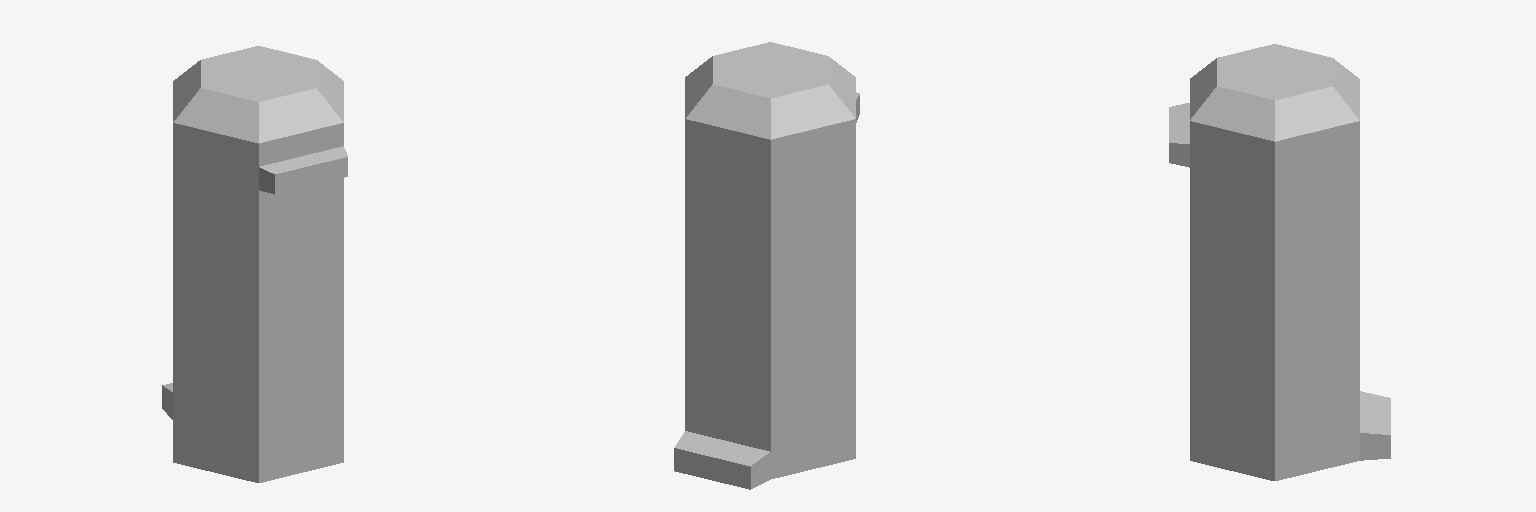
Rendered from trashbox.obj.
3 renders of one model, left to right at view 1: azimuth 30°, elevation 25°; view 2: azimuth 150°, elevation 25°; view 3: azimuth 270°, elevation 25°, orthographic.
Visible parts, largest first — view 1: trashcan; view 2: trashcan; view 3: trashcan.
Part boxes in pixels (bbox=[...]): trashcan: bbox=[162, 46, 347, 482]; trashcan: bbox=[674, 42, 859, 489]; trashcan: bbox=[1169, 44, 1390, 480].
Size of the model in its own units: 0.2077 by 0.4279 by 0.2341.